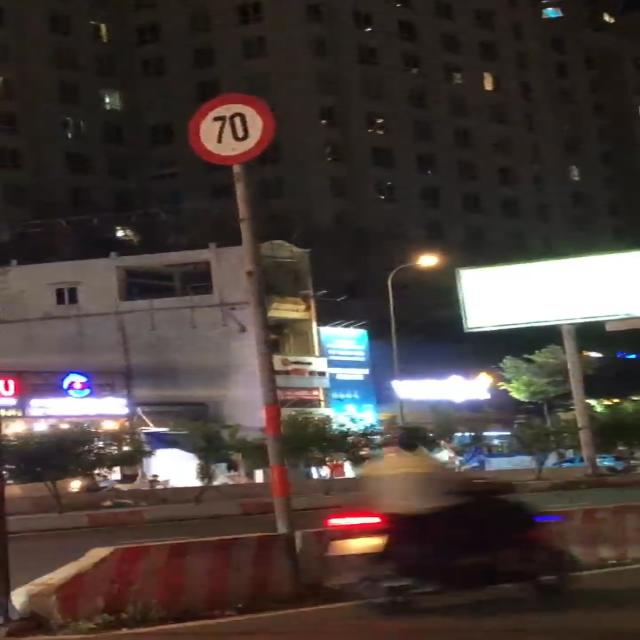Bien bao toc do toi da cho phep: (178, 92, 278, 166)
